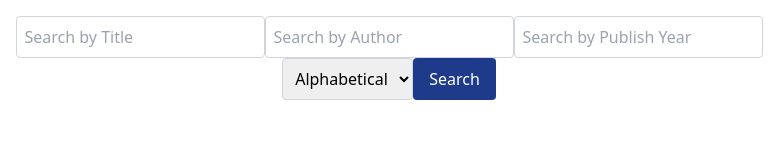
Test: Launch All Tests › AdvancedResearchAlt component › shouldRenderErrorMessage_whenSearchReturnNoResults
Click the button "Search". click: click(454, 79)
box: [413,58,496,100]
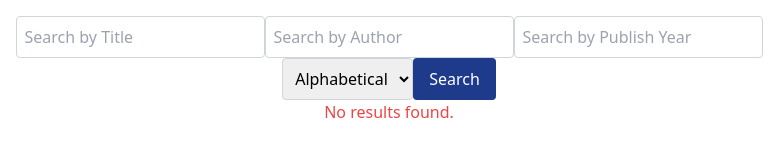
Result: the text "No results found." is shown at [324,100,454,124]
